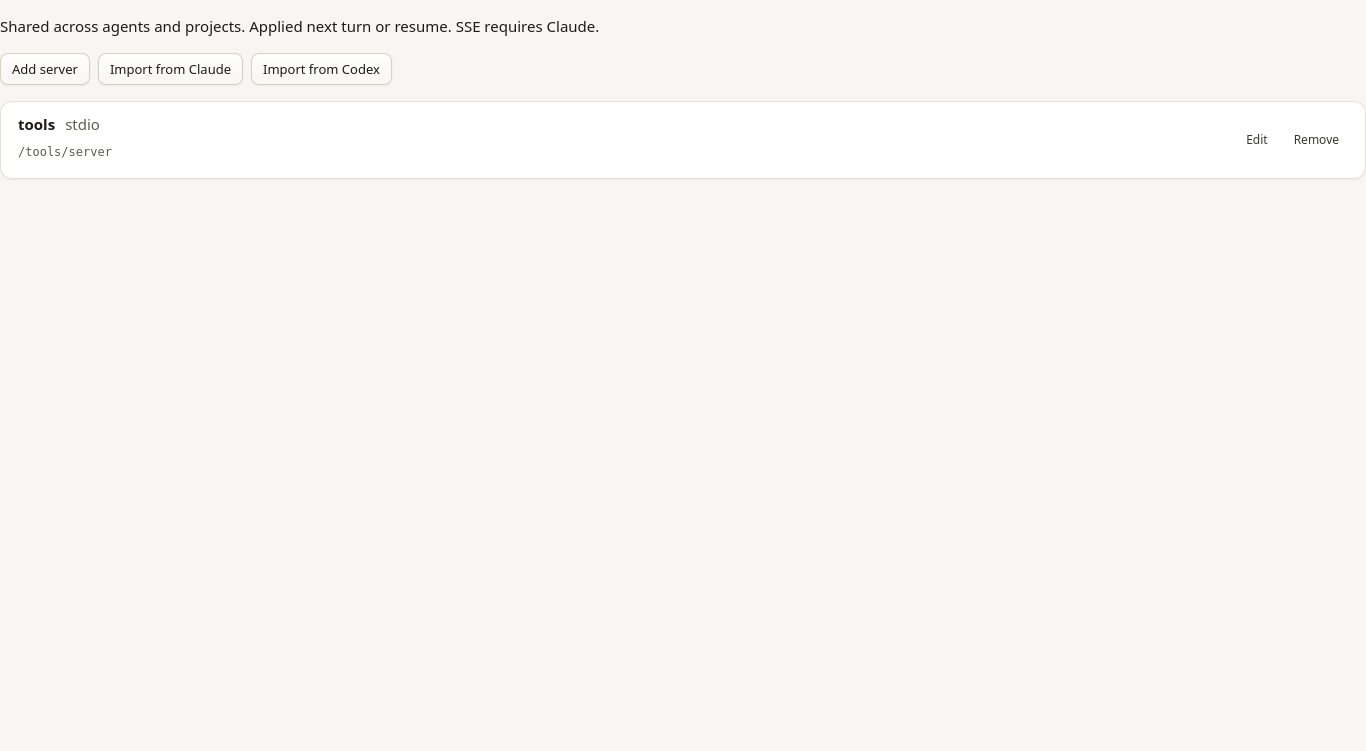
preserves a server editor after save failures and preserves exact arguments
Click the button "Edit".
click(1257, 140)  # box [1237, 127, 1277, 153]
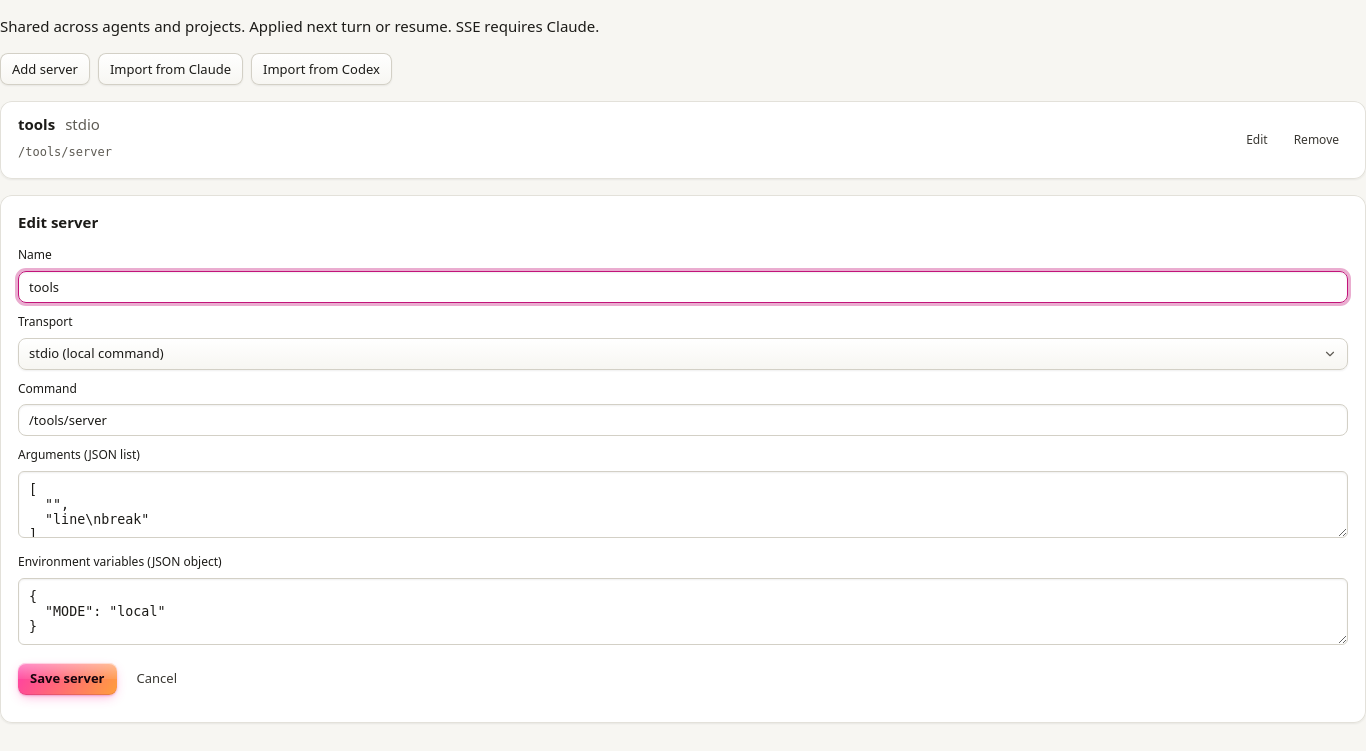
Submit the form
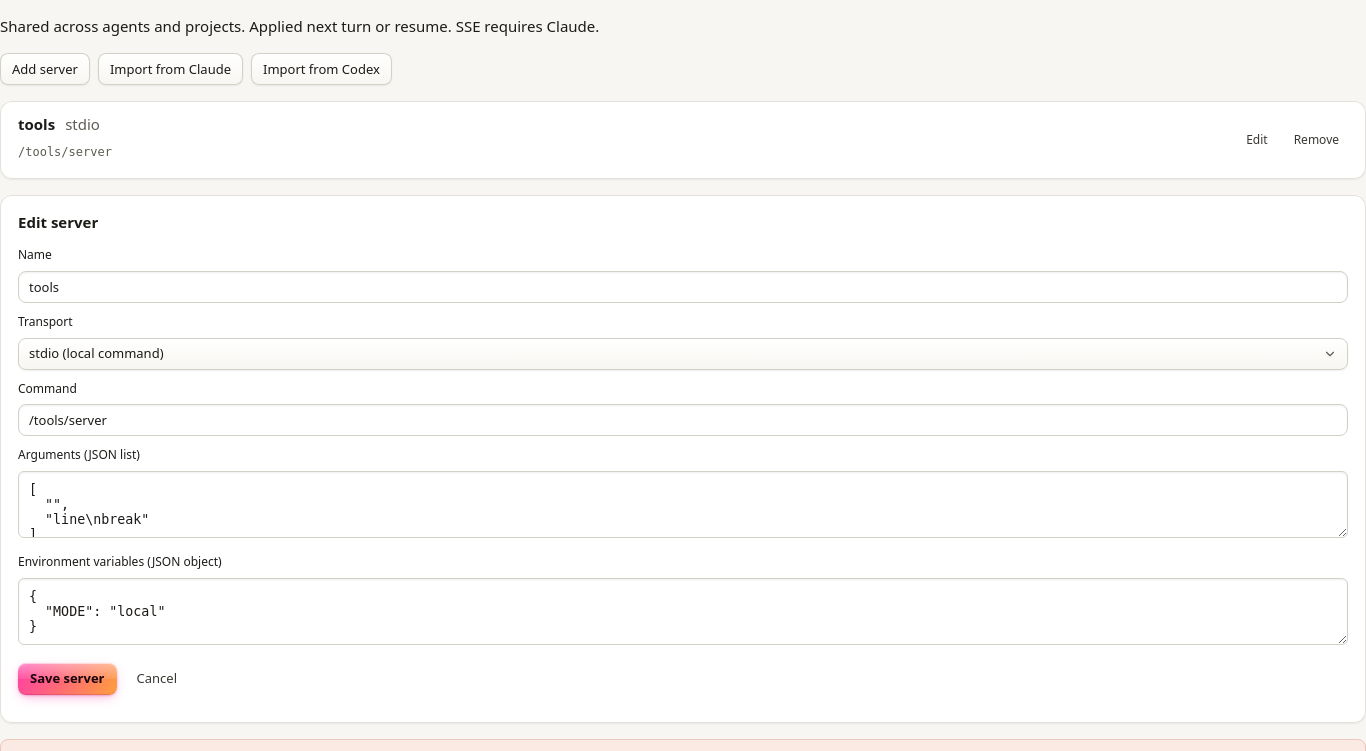
Check: the form is shown
Submit the form
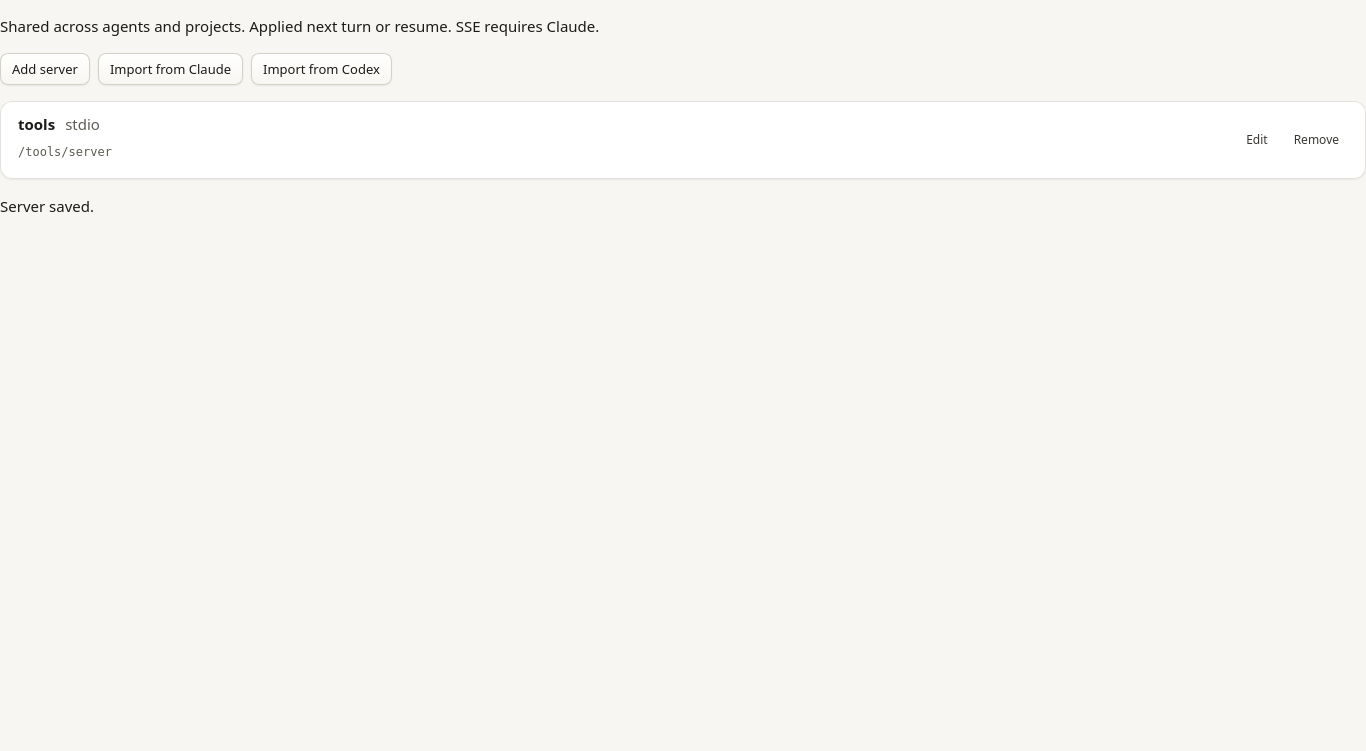
Check: the form is gone
